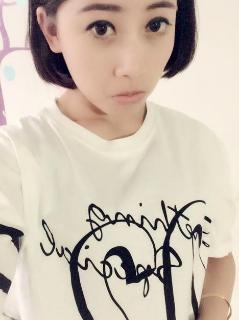short sleeve top: (0, 98, 238, 319)
